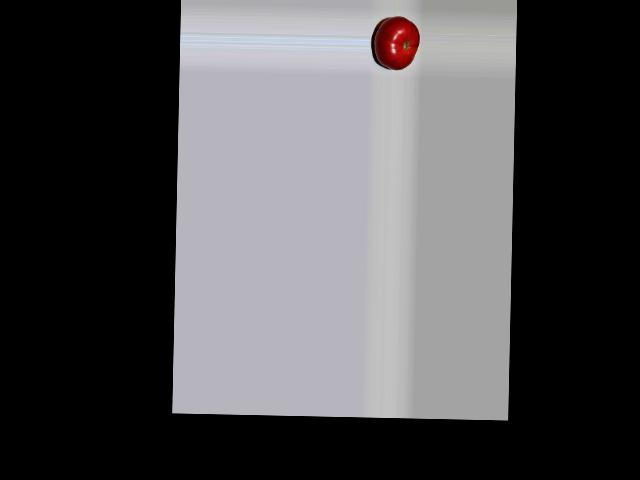tomato: (374, 15, 420, 70)
